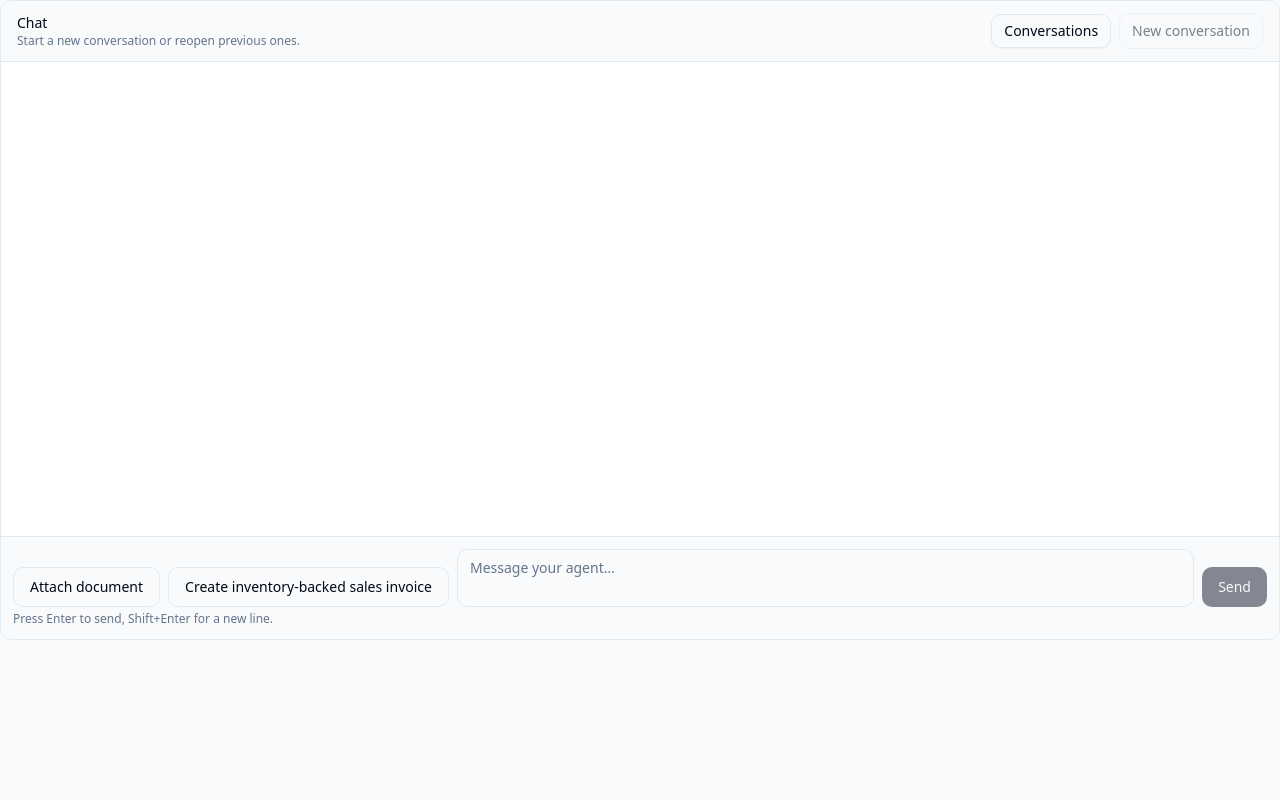
Test: ChatWindow › shows old conversations in a menu using the latest message as title
Click the heading "Conversations" at (1051, 31), box x1=991 y1=14 x2=1111 y2=48
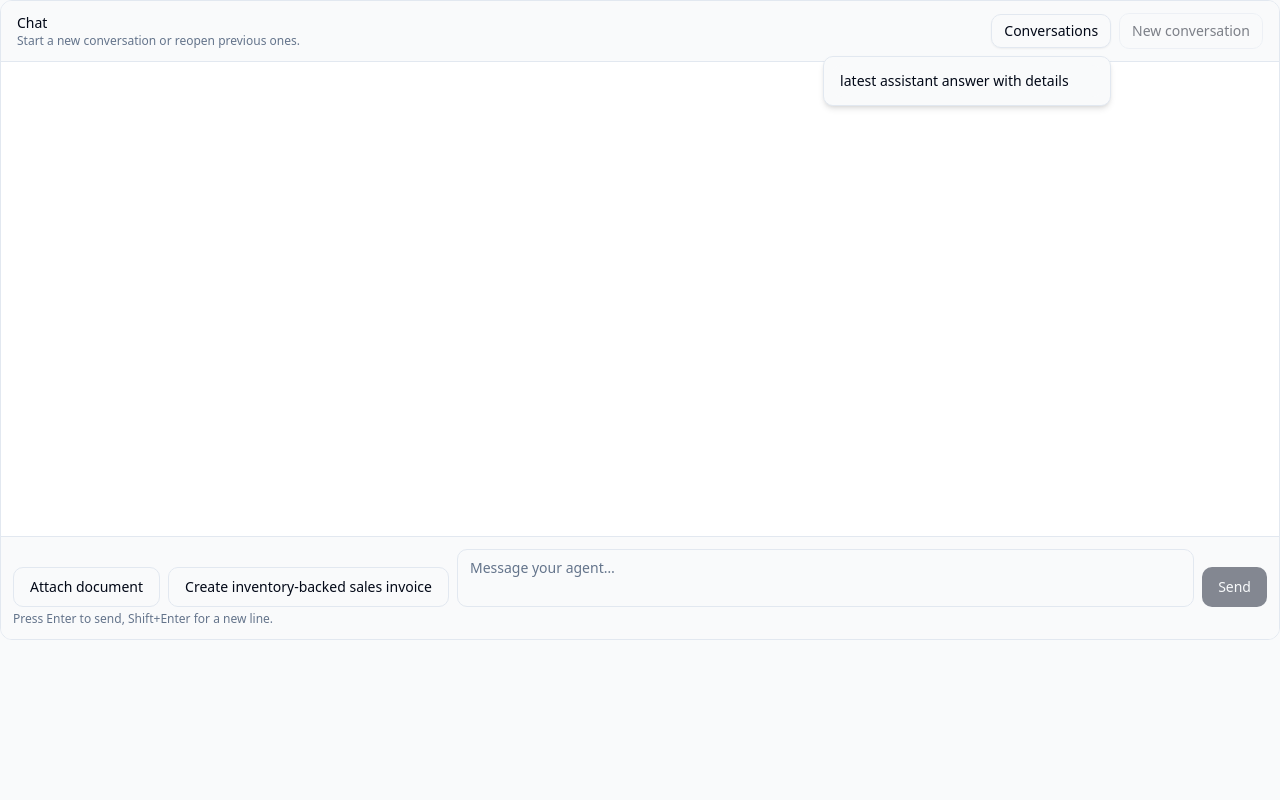
Expected: the button "latest assistant answer with details" is shown, x1=832 y1=65 x2=1102 y2=97
